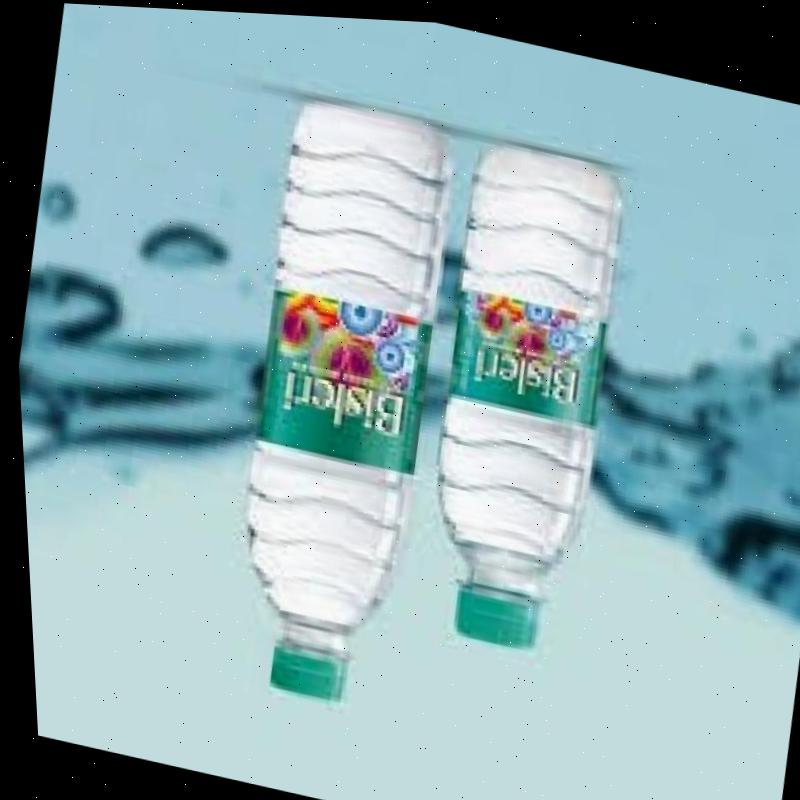botella: (189, 79, 479, 714), (386, 124, 648, 653)
